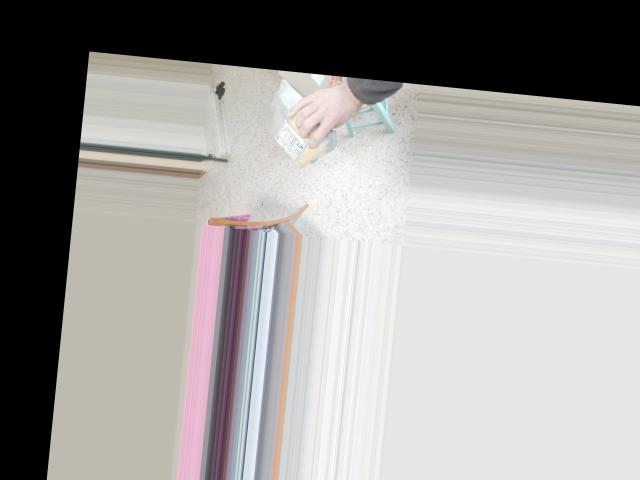cheese: (266, 80, 337, 168)
